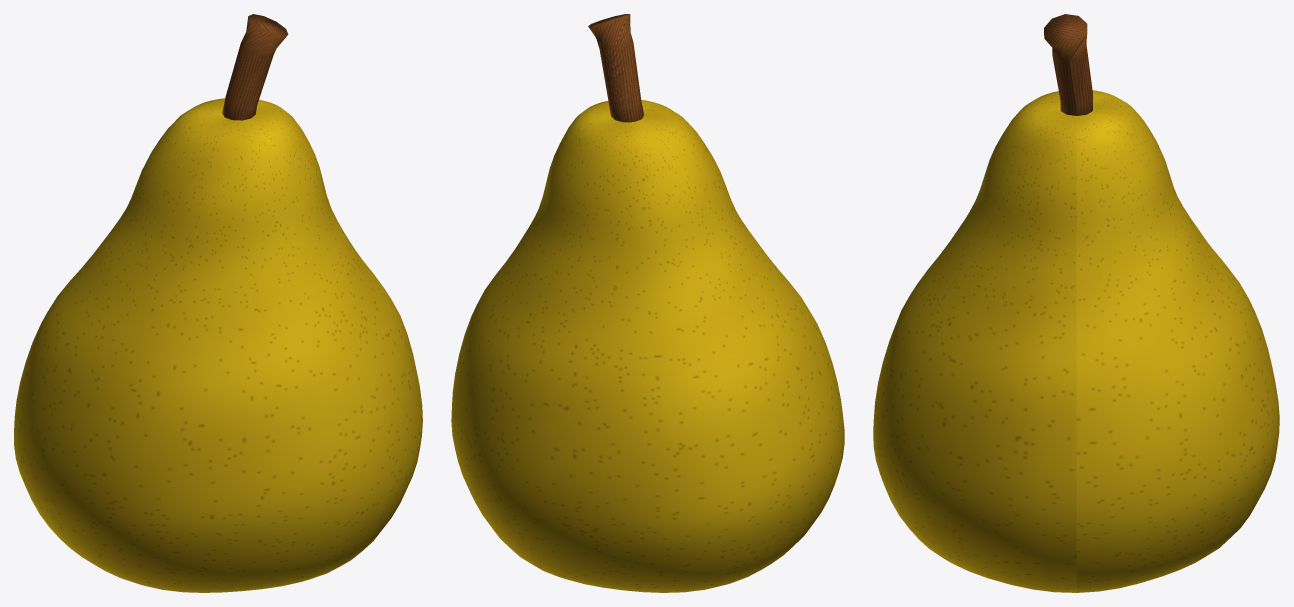
File: pear.glb
3 renders of one model, left to right at view 1: azimuth 30°, elevation 25°; view 2: azimuth 150°, elevation 25°; view 3: azimuth 270°, elevation 25°, orthographic. The views are drawn at different scales.
Visible parts, largest first — view 1: pear-mesh; view 2: pear-mesh; view 3: pear-mesh.
Part boxes in pixels (x1,y1,x2,y2): pear-mesh: [14, 14, 422, 592]; pear-mesh: [451, 14, 844, 592]; pear-mesh: [873, 14, 1279, 592].
Size of the model in its own units: 0.057 by 0.0808 by 0.055.
Materials: 2 (2 with a texture image).
